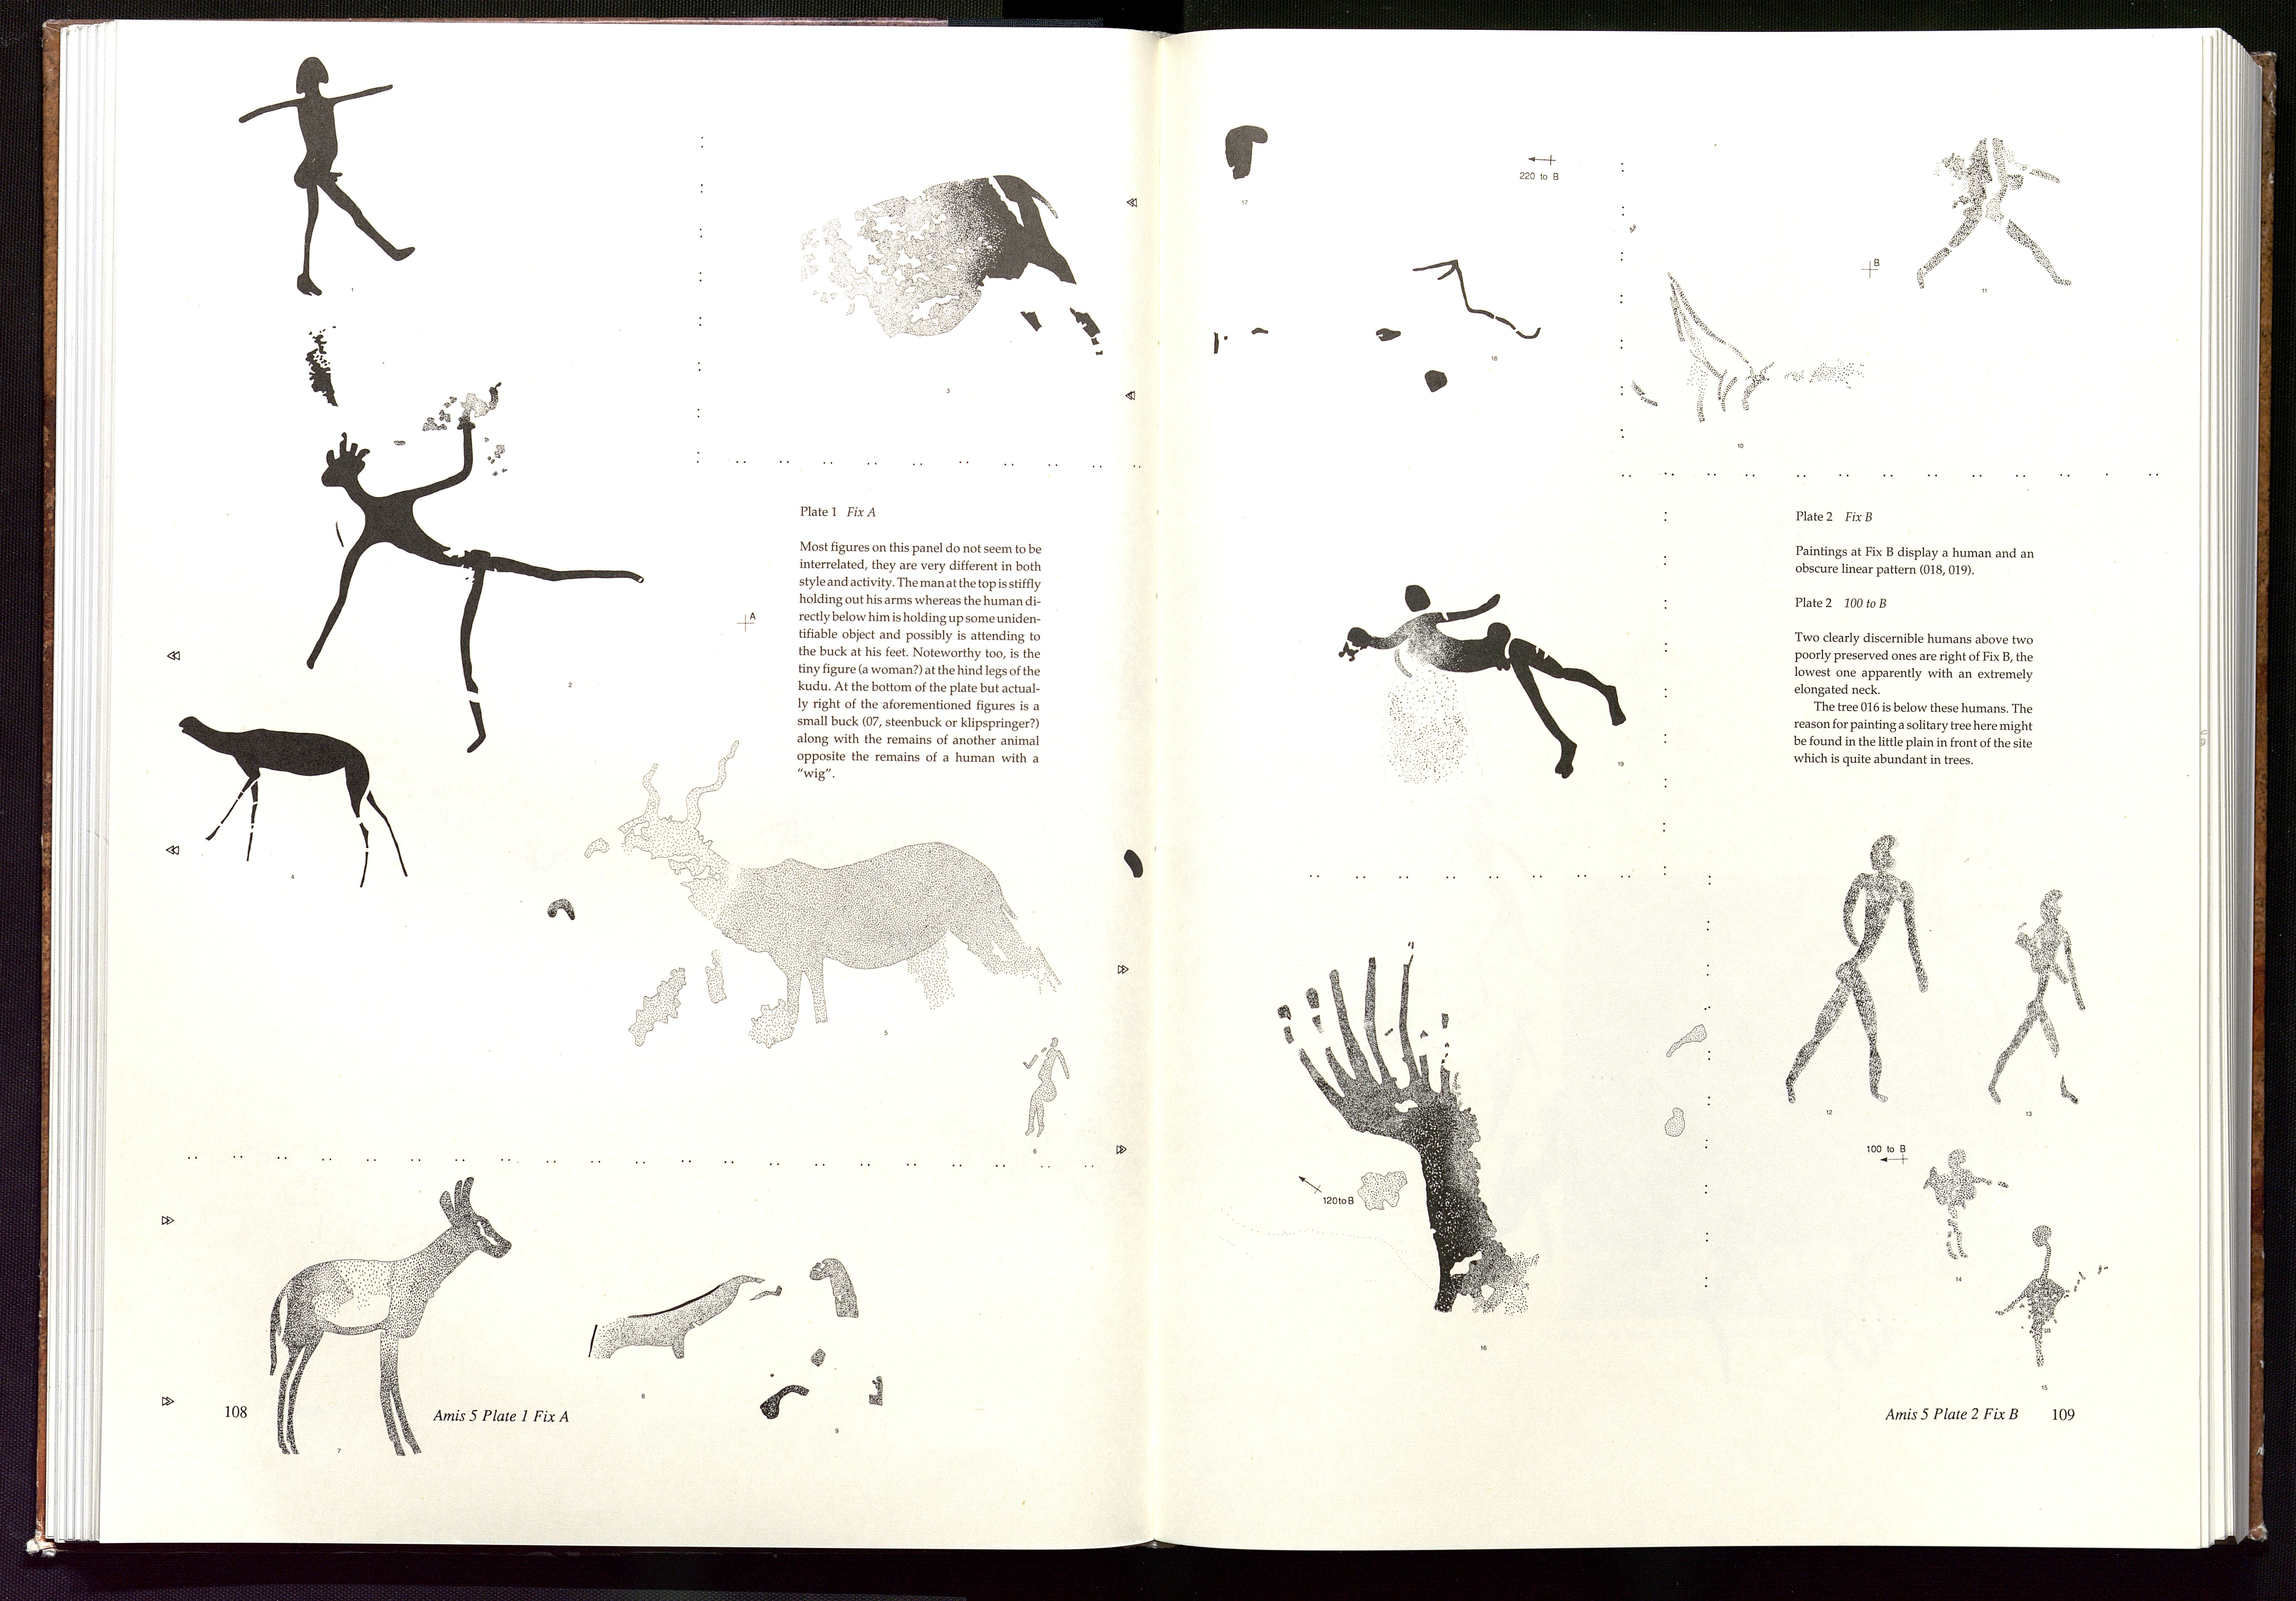animal: (582, 743, 1065, 1049), (265, 1177, 514, 1456), (179, 716, 410, 887)
human: (306, 417, 644, 754), (1337, 583, 1627, 779), (238, 55, 417, 297), (1785, 835, 1931, 1106), (1984, 889, 2085, 1107), (1995, 1223, 2074, 1368), (1919, 1149, 2010, 1260), (1020, 1036, 1071, 1140)
